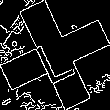L_NW: (30, 26, 80, 84)
